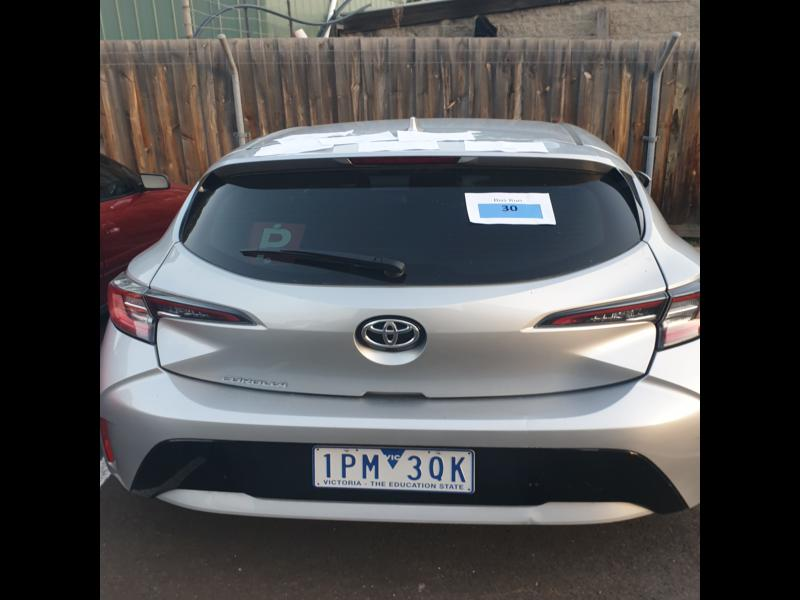BusRun: (477, 201, 543, 220)
PlateNo: (313, 446, 475, 491)
